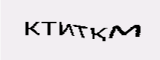Д: (103, 10, 126, 37)
Ж: (68, 5, 88, 27)
Л: (91, 9, 103, 35)
Н: (34, 3, 49, 26)
П: (51, 2, 67, 24)
